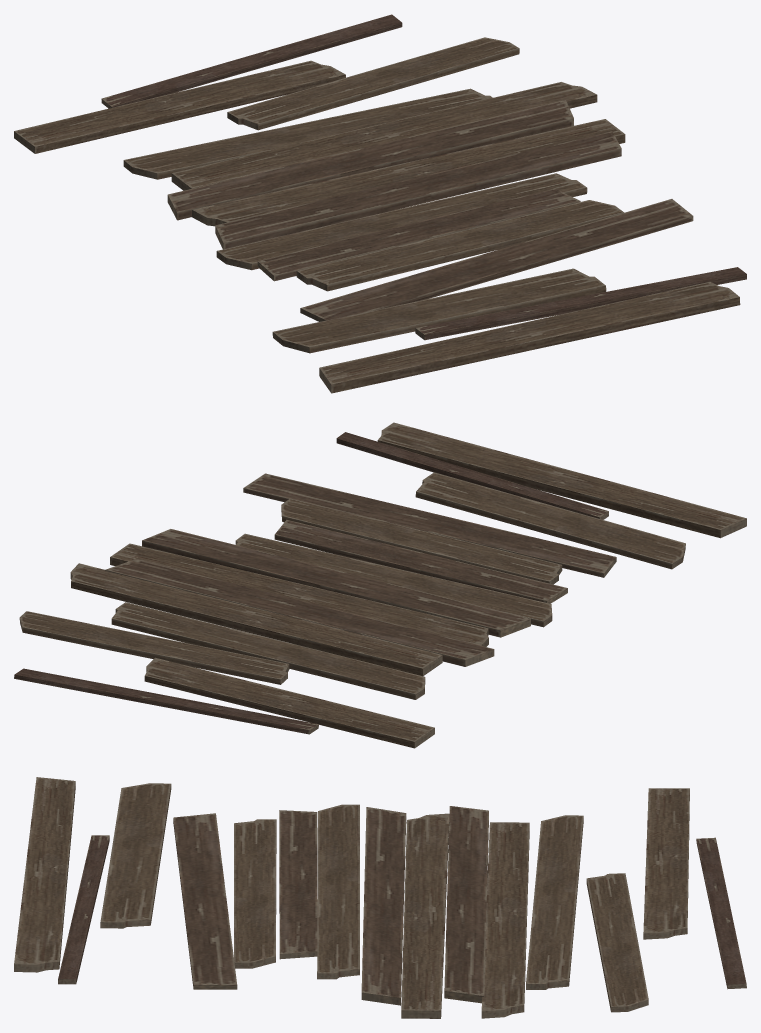
File: i_xzcw_muban05_01.FBX
3 views of the same model, one above another, from view 1: azimuth 30°, elevation 25°; view 2: azimuth 150°, elevation 25°; view 3: azimuth 270°, elevation 25° (orthographic). The views are drawn at different scales.
Parts seen in each view (by area): view 1: i_xzcw_muban05_01; view 2: i_xzcw_muban05_01; view 3: i_xzcw_muban05_01.
Boxes of the visible parts, x1,y1,x2,y2 form: i_xzcw_muban05_01: [14, 14, 746, 393]; i_xzcw_muban05_01: [14, 422, 746, 748]; i_xzcw_muban05_01: [14, 777, 746, 1018].
Size of the model in its own units: 5.33 by 0.1628 by 7.07.
